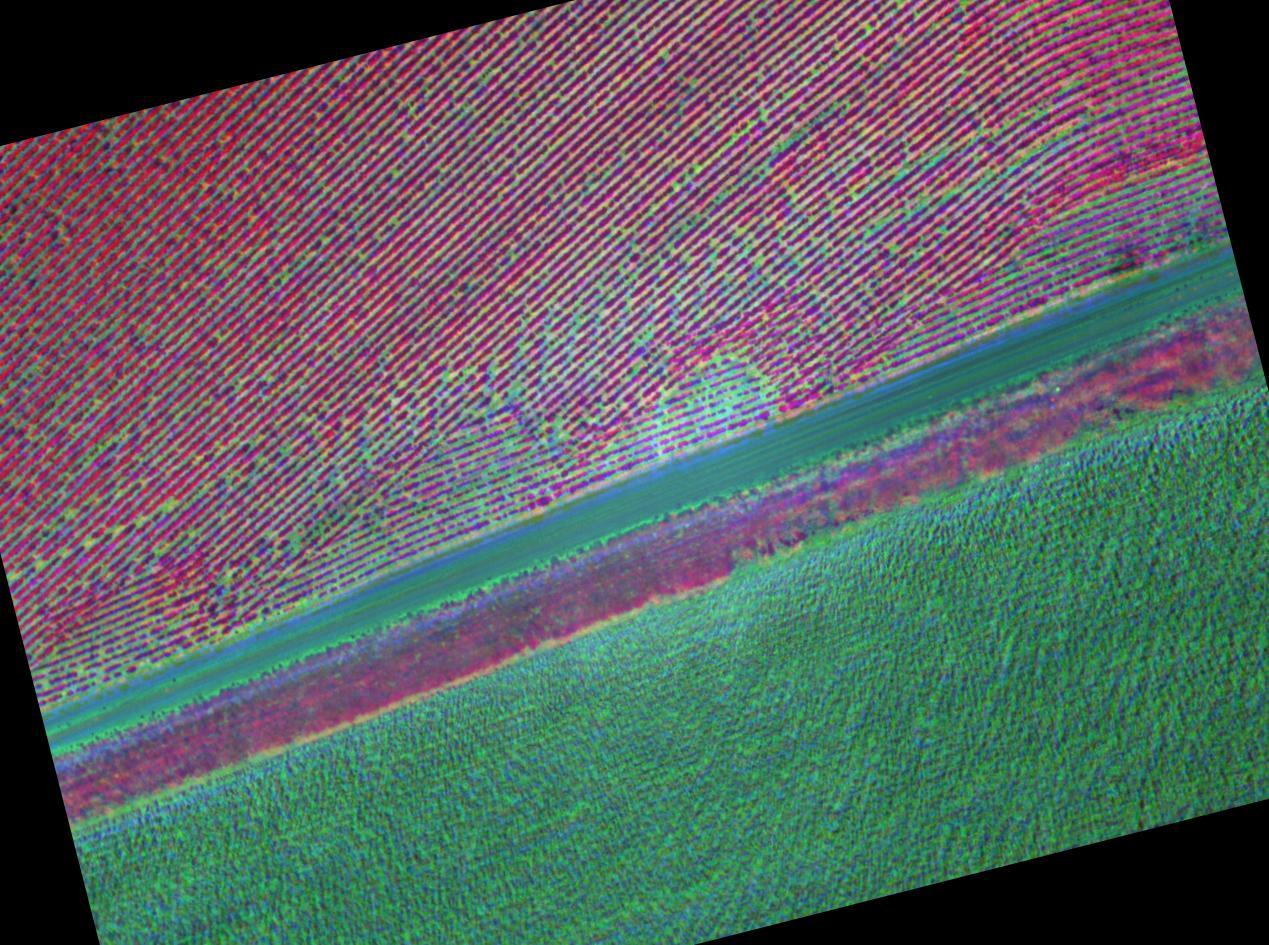dc: (165, 503, 176, 510), (748, 367, 755, 375), (668, 389, 676, 396), (492, 398, 499, 406)
